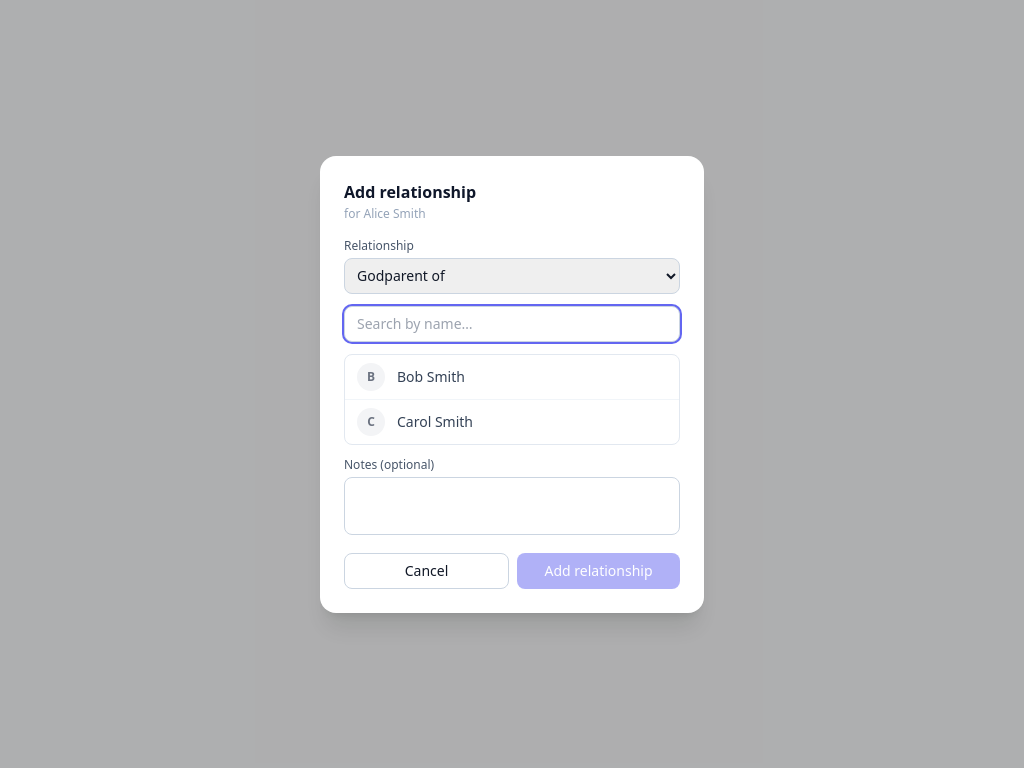
Test case: AddRelationshipModal › requires a custom label before submitting a Custom relationship
Select "Custom relationship" in the dropdown labelled "Relationship": (512, 276) [344, 258, 680, 294]
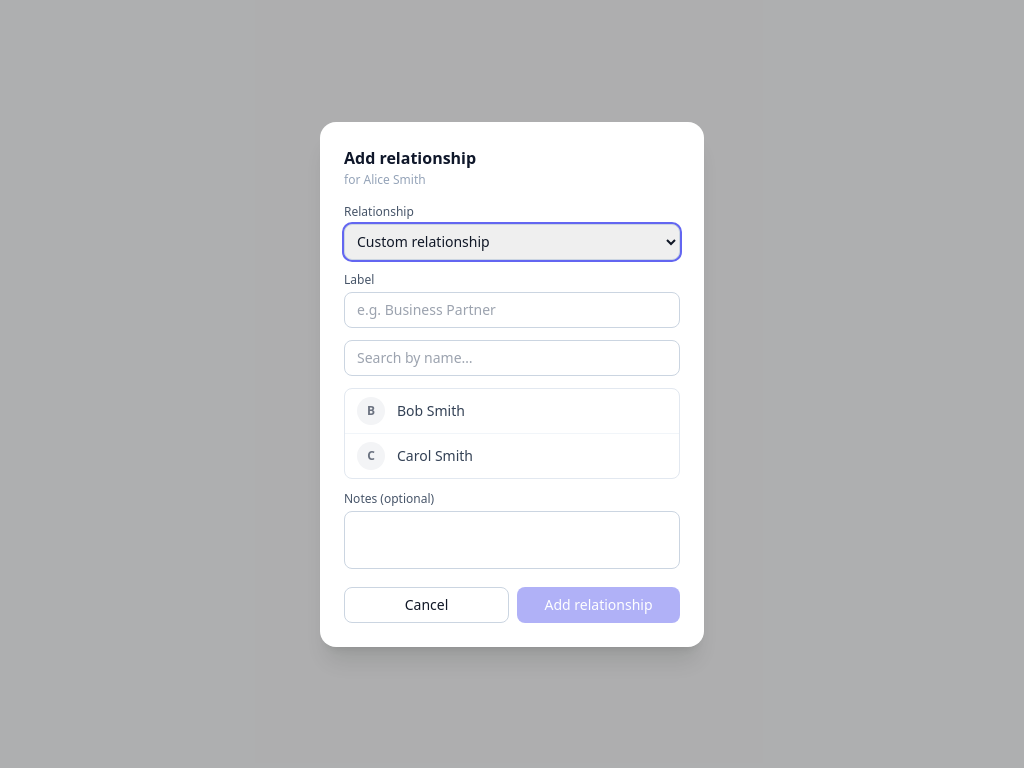
Click the text "Bob Smith": (431, 410) [397, 400, 465, 420]
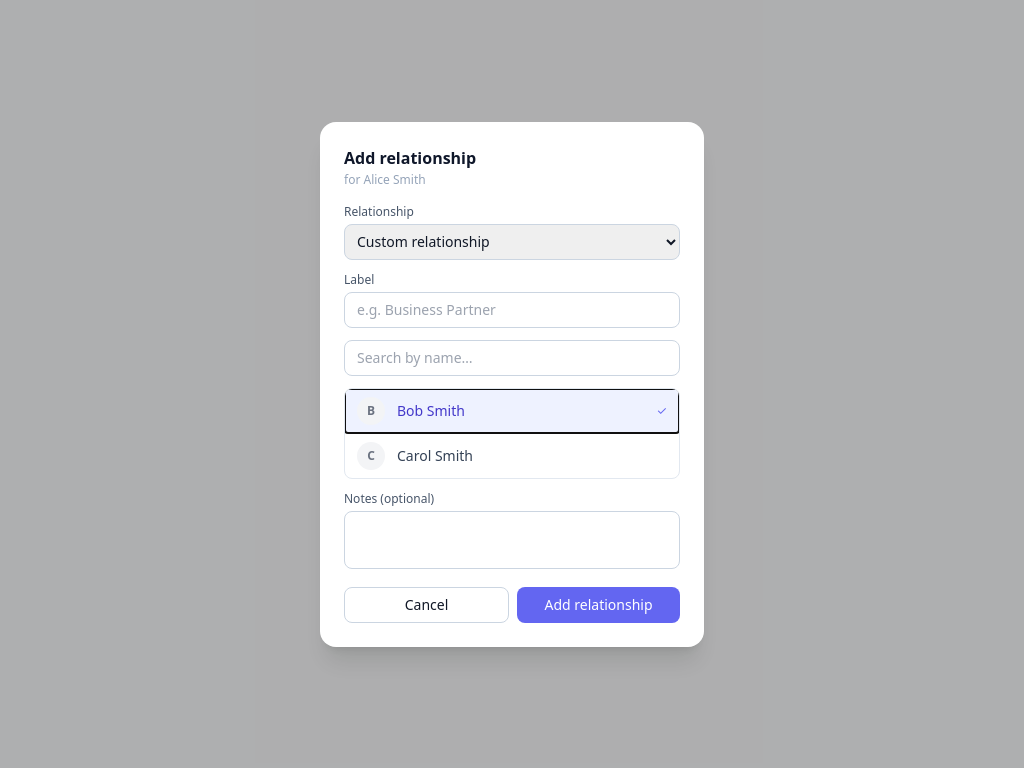
Click the button "Add relationship": (598, 604) [517, 586, 680, 622]
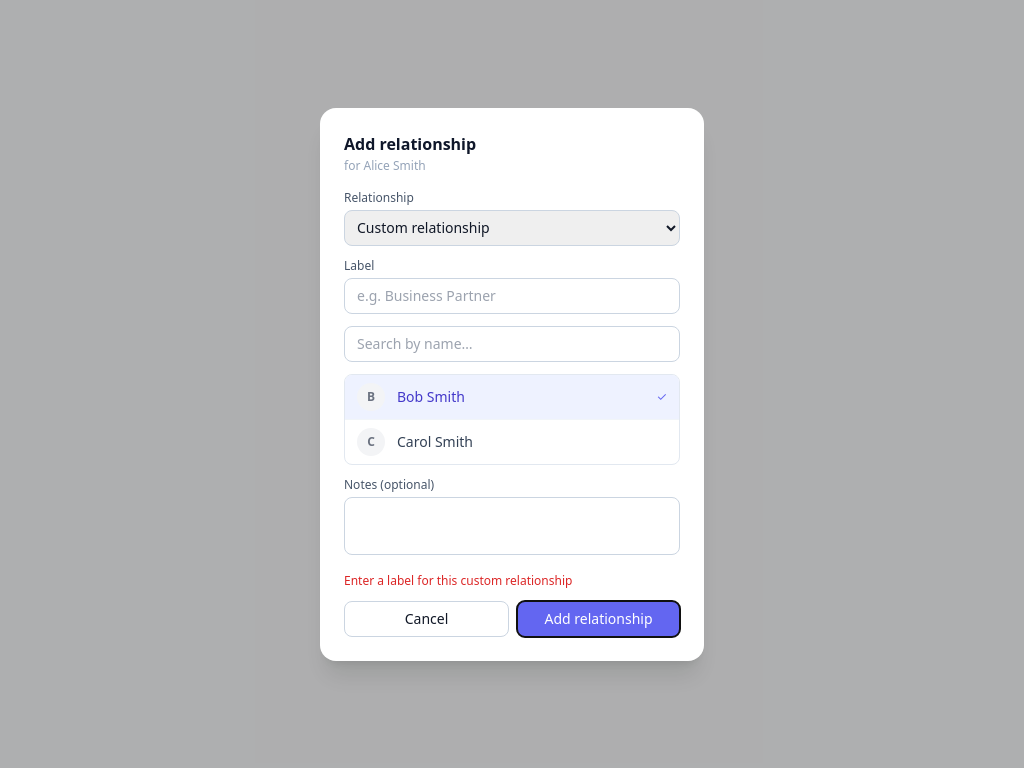
Expected: the text "Enter a label for this custom relationship" is shown, [344, 572, 572, 588]
